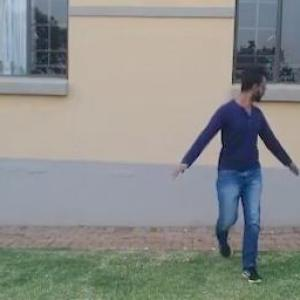land: (171, 48, 299, 291)
